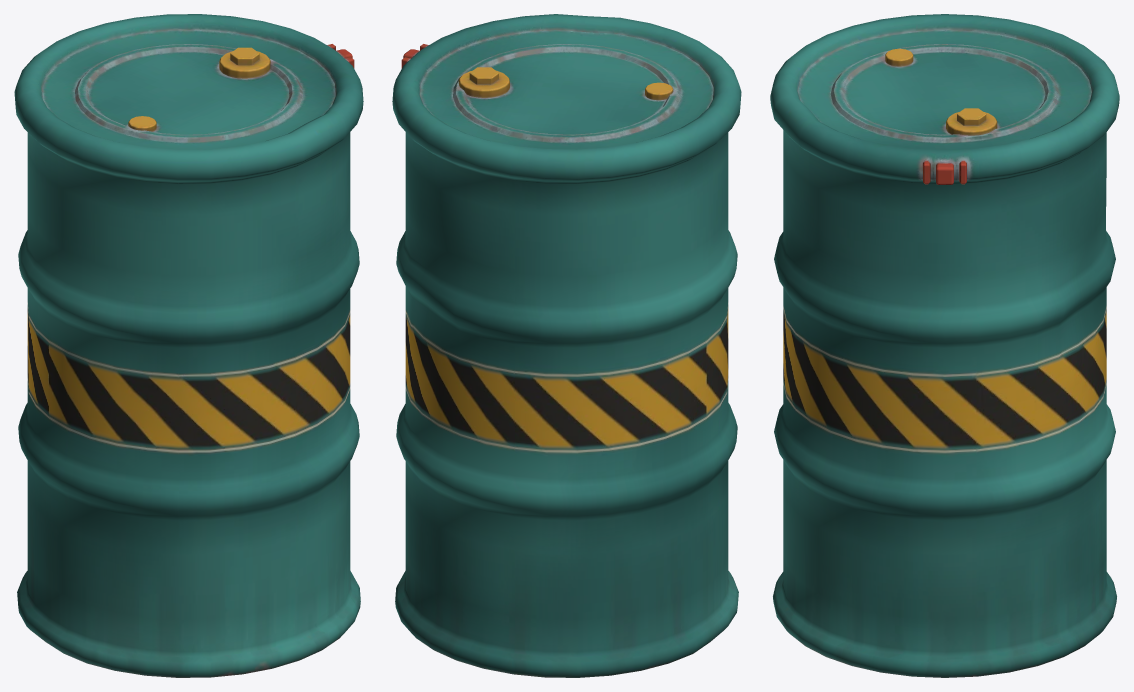
The model's file is barrel-v001.glb.
3 renders of one model, left to right at view 1: azimuth 30°, elevation 25°; view 2: azimuth 150°, elevation 25°; view 3: azimuth 270°, elevation 25°, orthographic.
Parts seen in each view (by area): view 1: Barrel; view 2: Barrel; view 3: Barrel.
Boxes of the visible parts, bbox=[...] form: Barrel: bbox=[14, 14, 363, 677]; Barrel: bbox=[392, 14, 741, 677]; Barrel: bbox=[770, 14, 1119, 677].
Size of the model in its own units: 0.4725 by 0.765 by 0.459.
1 material, 1 textured.
